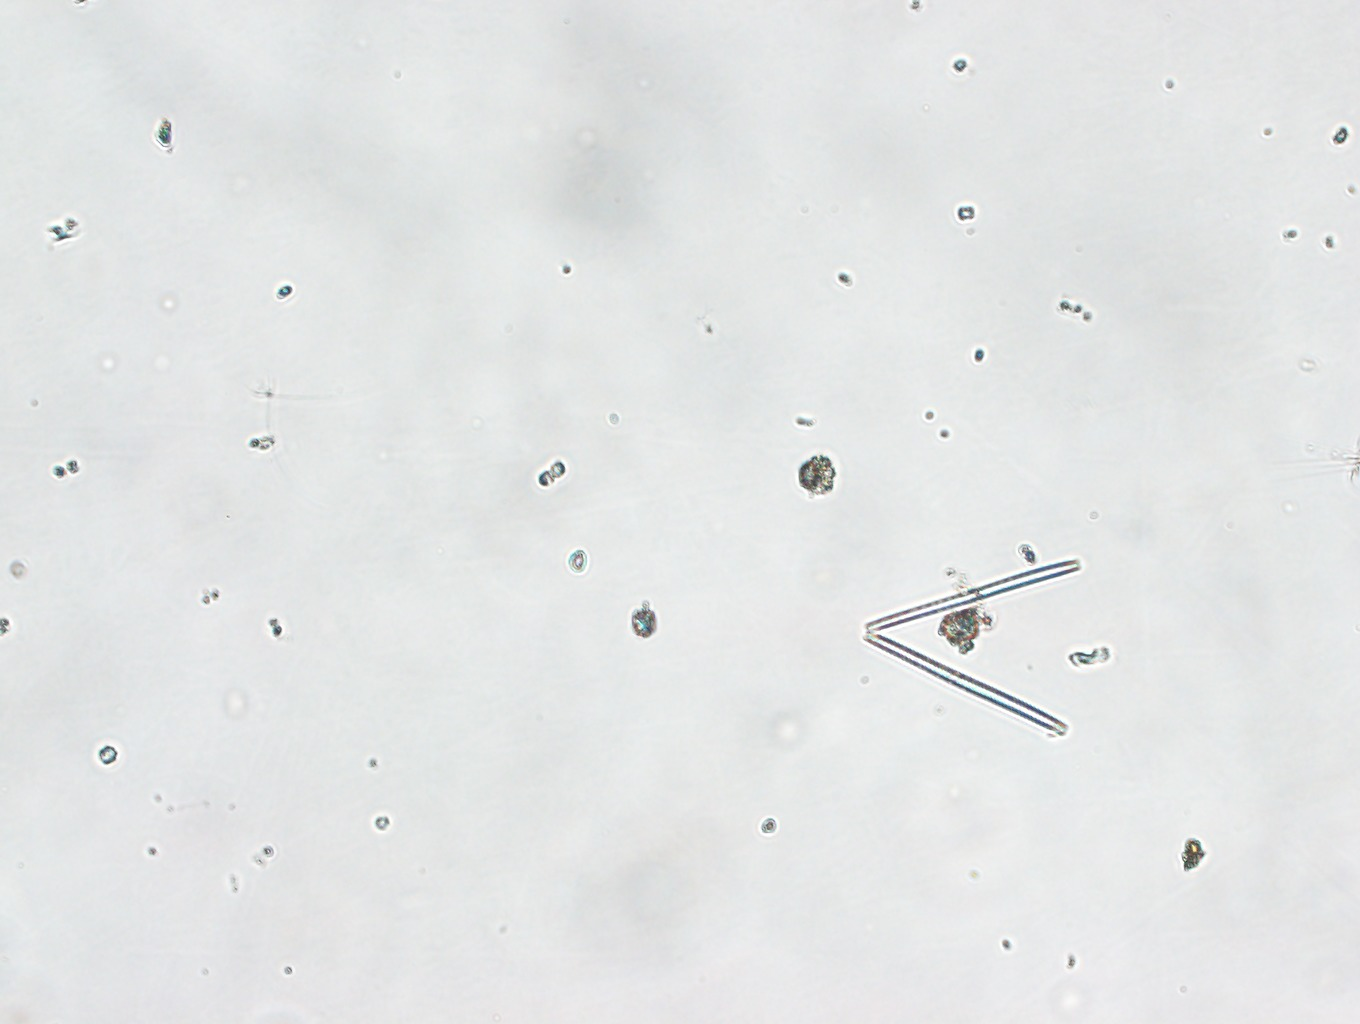thalassionema frauenfeldii: (853, 545, 1098, 751)
